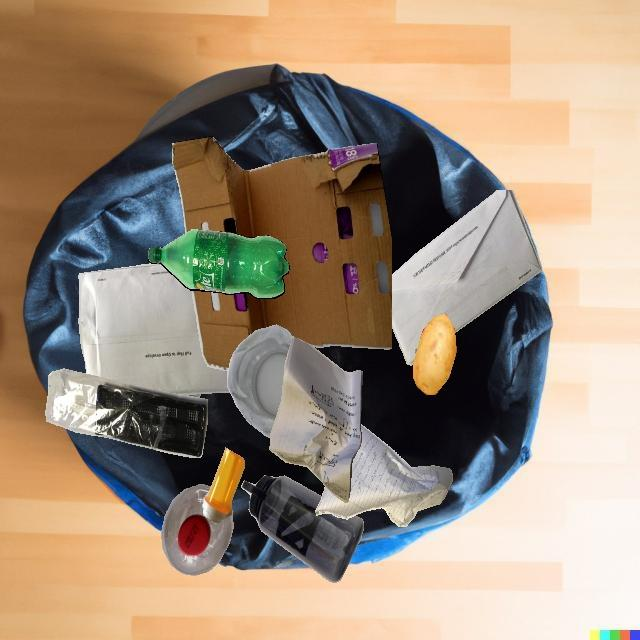biowaste: (413, 314, 456, 395)
cardboard: (172, 136, 392, 371)
paper: (392, 190, 542, 366), (79, 264, 230, 395), (270, 336, 362, 503), (315, 424, 453, 526)
plastic: (45, 368, 208, 458), (241, 475, 364, 583), (148, 229, 290, 299), (227, 325, 293, 438), (161, 484, 234, 576), (203, 447, 245, 524), (181, 394, 201, 398)
